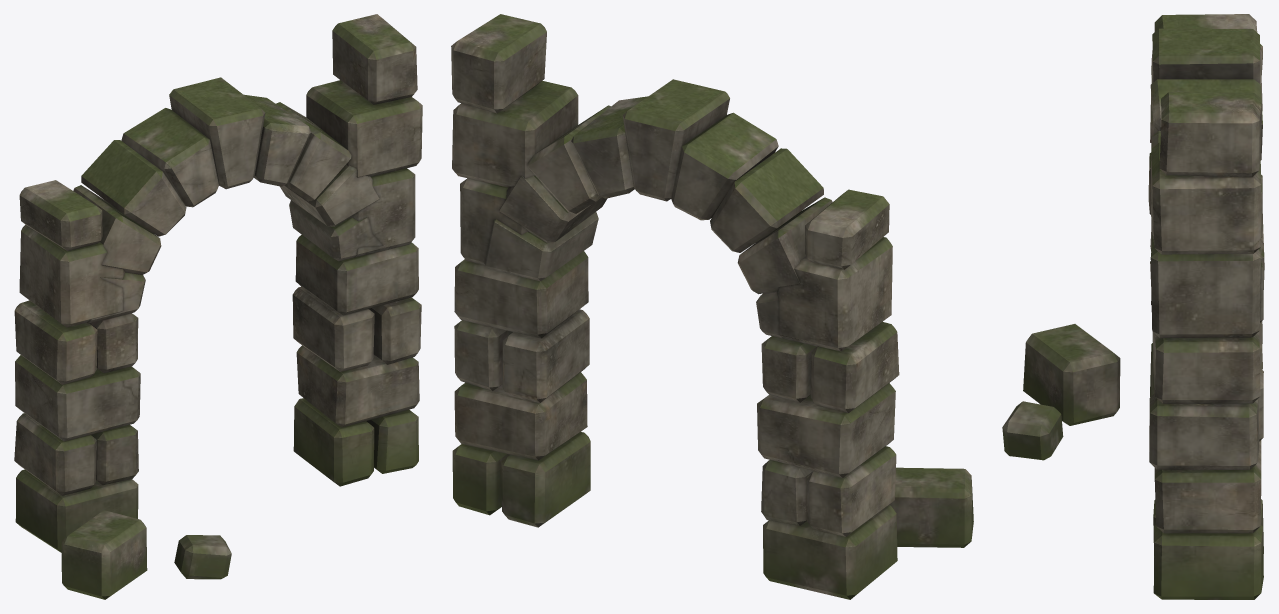
The model's file is fm_ruined_arch_small.glb.
3 renders of one model, left to right at view 1: azimuth 30°, elevation 25°; view 2: azimuth 150°, elevation 25°; view 3: azimuth 270°, elevation 25°, orthographic. The views are drawn at different scales.
Parts seen in each view (by area): view 1: fm_ruined_arch_small; view 2: fm_ruined_arch_small; view 3: fm_ruined_arch_small.
Boxes of the visible parts, x1,y1,x2,y2 form: fm_ruined_arch_small: [14, 14, 422, 599]; fm_ruined_arch_small: [451, 14, 973, 599]; fm_ruined_arch_small: [1002, 14, 1264, 599].
Size of the model in its own units: 2.44 by 2.5 by 1.21.
Materials: 1 (1 with a texture image).
